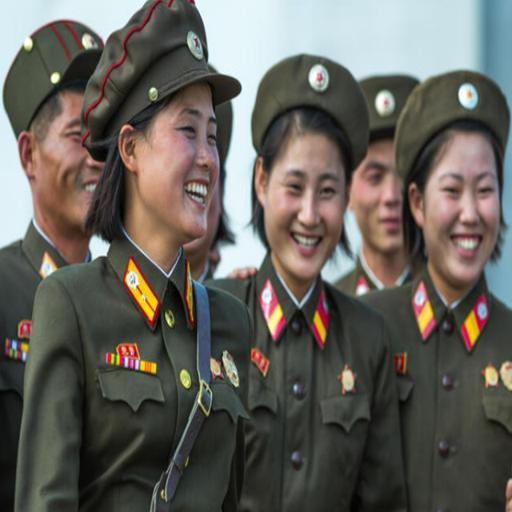north army: (11, 5, 512, 512)
